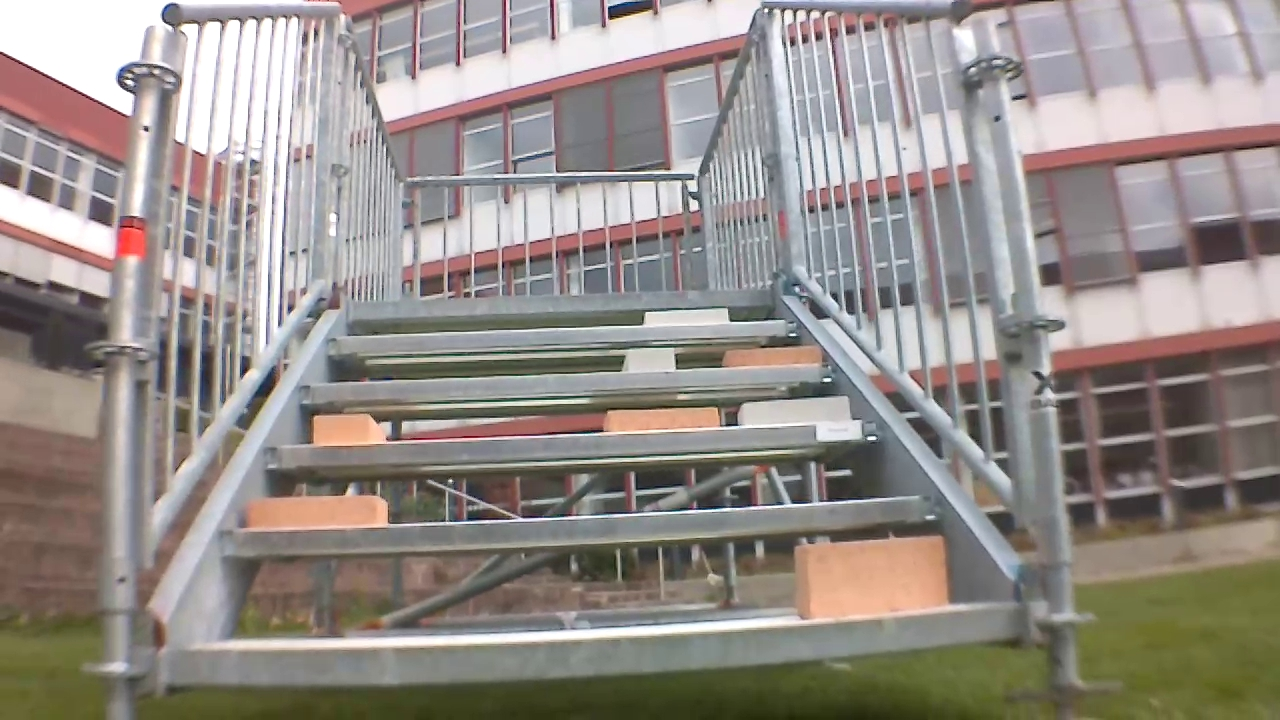brick: (784, 533, 952, 626), (244, 492, 386, 528), (601, 403, 731, 436), (738, 395, 851, 430), (303, 411, 382, 448), (723, 338, 823, 366), (638, 308, 731, 330), (624, 349, 677, 376)
edge: (171, 602, 1026, 698), (215, 498, 959, 549), (266, 413, 886, 472), (292, 365, 838, 407), (321, 313, 800, 359), (347, 284, 770, 314)
stairs: (107, 0, 1077, 715)
steps: (160, 292, 1063, 691)
